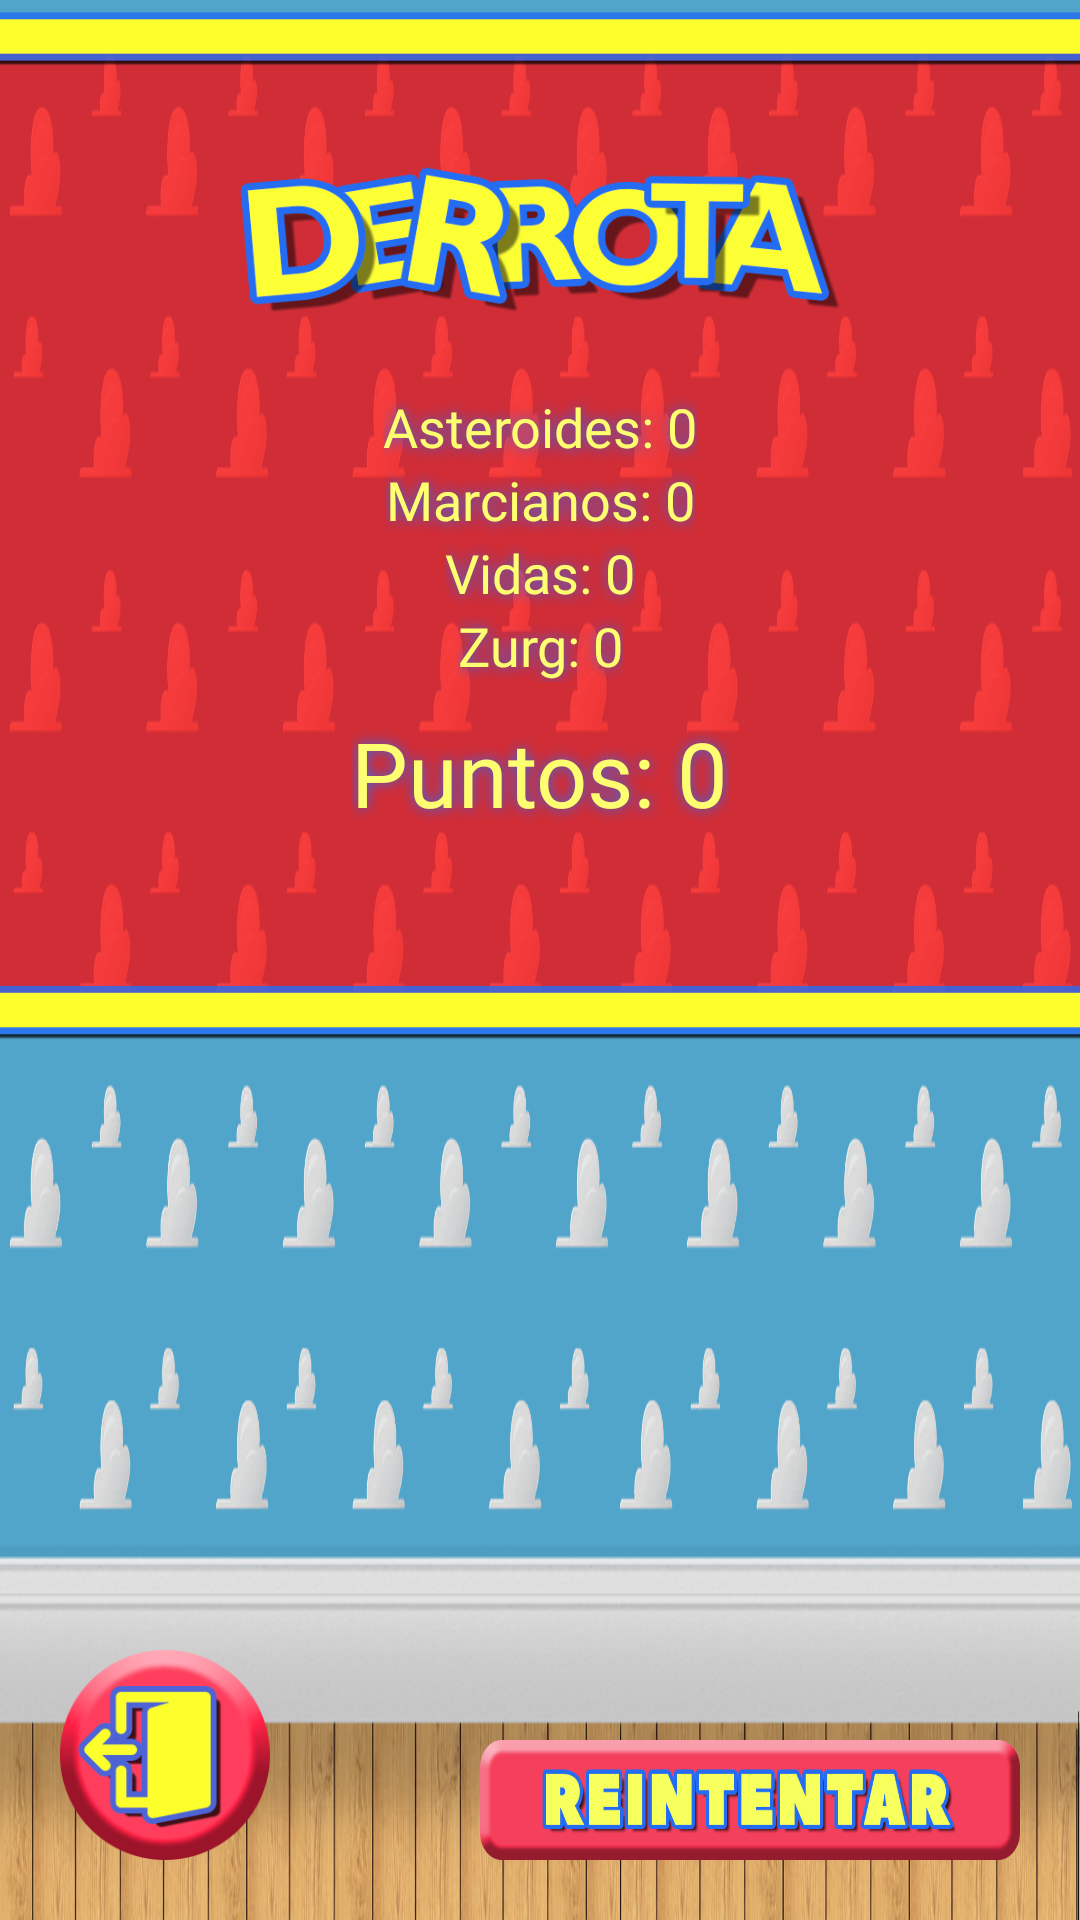

Named icons in this screenshot (1080 x 1920) and their centers, (x,y):
bot nsalir: (165,1755)
